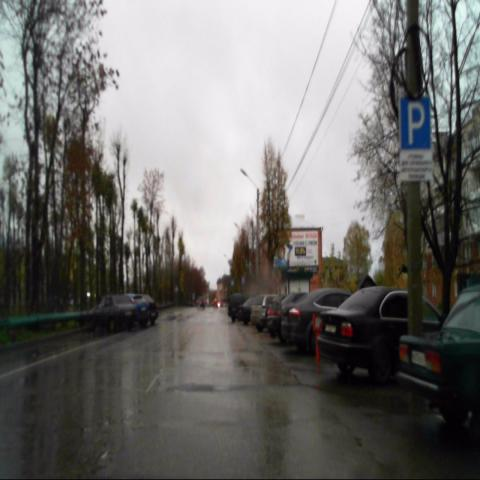6_4: (400, 98, 431, 149)
